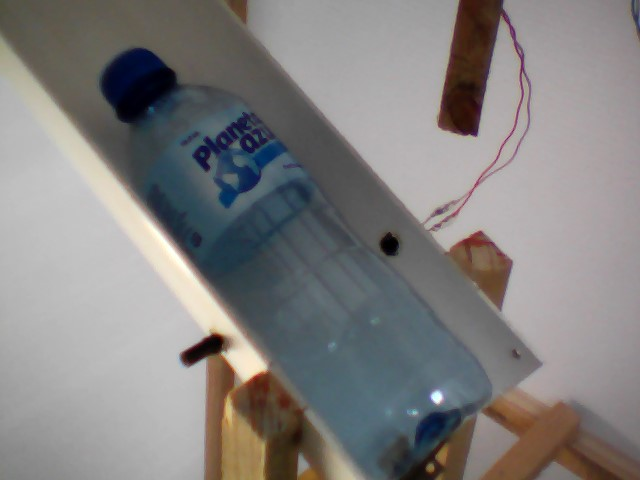plastico: (91, 37, 503, 480)
